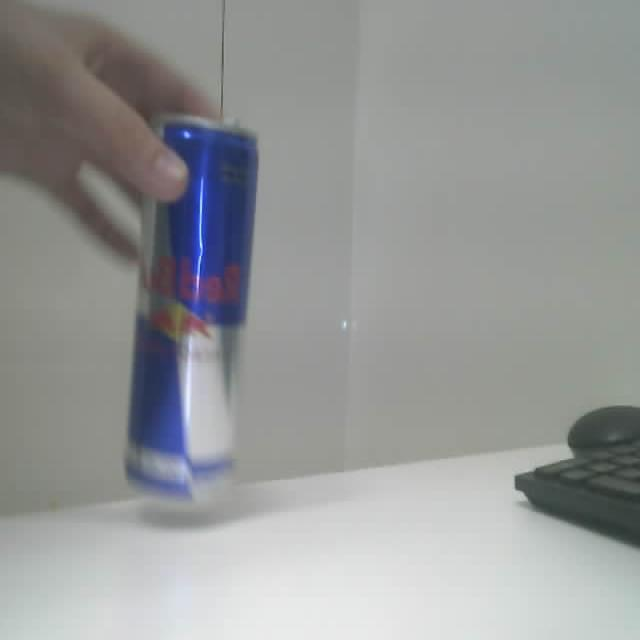redbull can: (125, 116, 257, 505)
